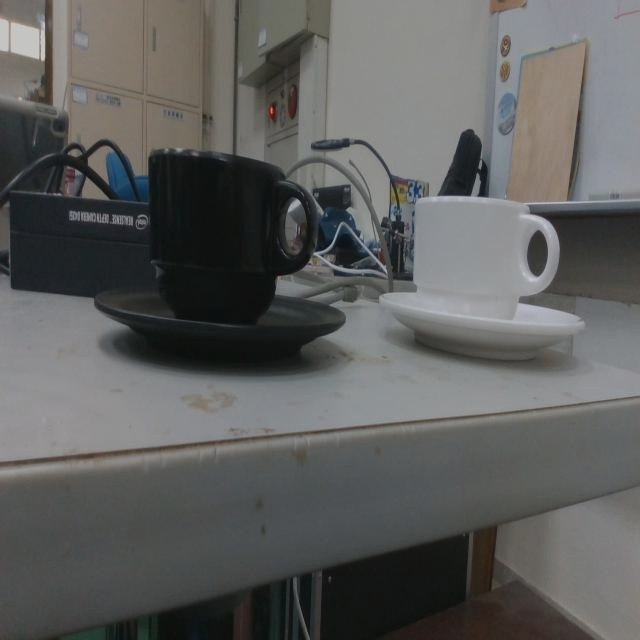black: (91, 140, 348, 367)
white: (378, 191, 586, 367)
